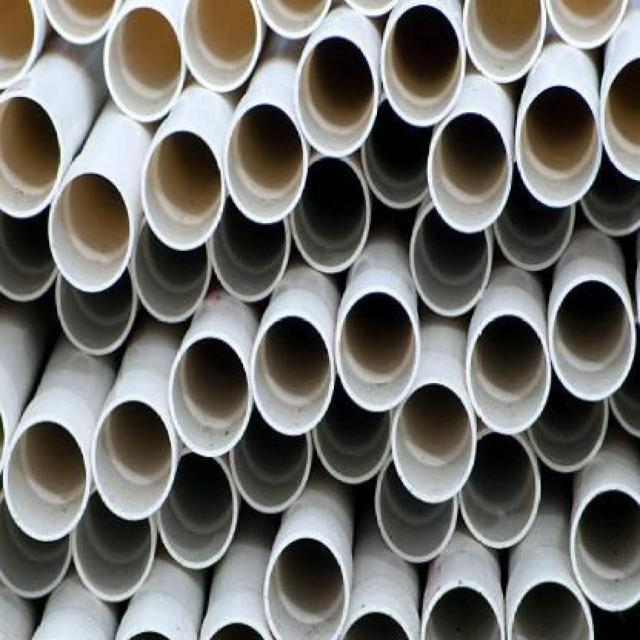pipe: (3, 414, 90, 542), (549, 276, 636, 402), (380, 2, 467, 127), (516, 83, 603, 208), (392, 379, 477, 504), (92, 397, 177, 522), (294, 34, 379, 159), (427, 110, 512, 234), (335, 288, 420, 412), (466, 311, 551, 435), (224, 100, 307, 226), (168, 334, 251, 458), (251, 313, 334, 435), (141, 129, 224, 250), (458, 429, 540, 549), (158, 448, 238, 570), (72, 488, 157, 602), (291, 154, 371, 274), (49, 171, 129, 291), (104, 5, 186, 122), (231, 398, 312, 514), (410, 204, 492, 318), (493, 159, 575, 271), (209, 189, 291, 301), (312, 371, 394, 483), (375, 455, 460, 563), (570, 482, 640, 613), (263, 535, 351, 639), (361, 92, 435, 209), (131, 215, 211, 323), (0, 488, 72, 597), (0, 92, 62, 218), (181, 1, 260, 92), (56, 269, 138, 356), (463, 0, 546, 84), (527, 396, 609, 472), (580, 142, 640, 237), (0, 204, 57, 303), (507, 576, 595, 639), (420, 578, 508, 639), (42, 0, 119, 46), (0, 2, 38, 89), (252, 0, 334, 40), (339, 606, 416, 640)
